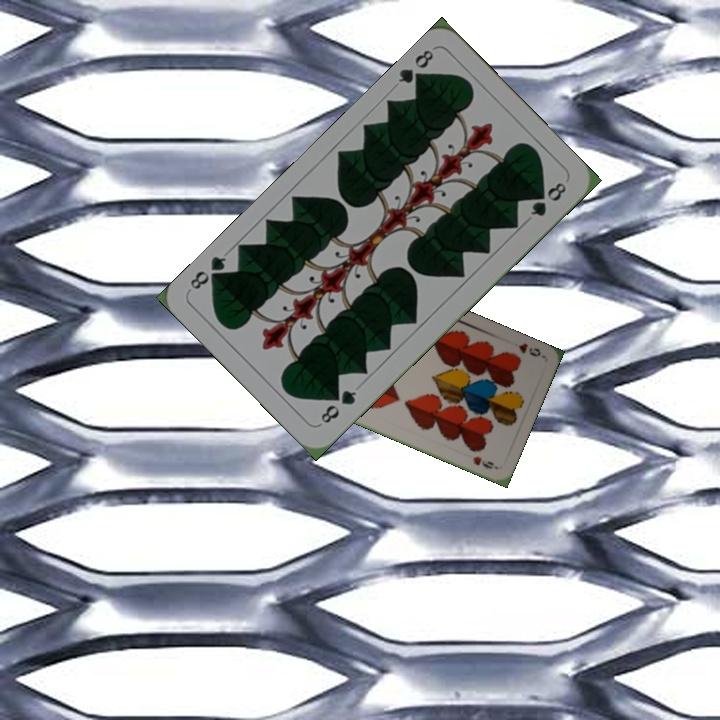G8: (394, 45, 437, 90), (316, 385, 360, 426)
H9: (514, 339, 543, 360)
